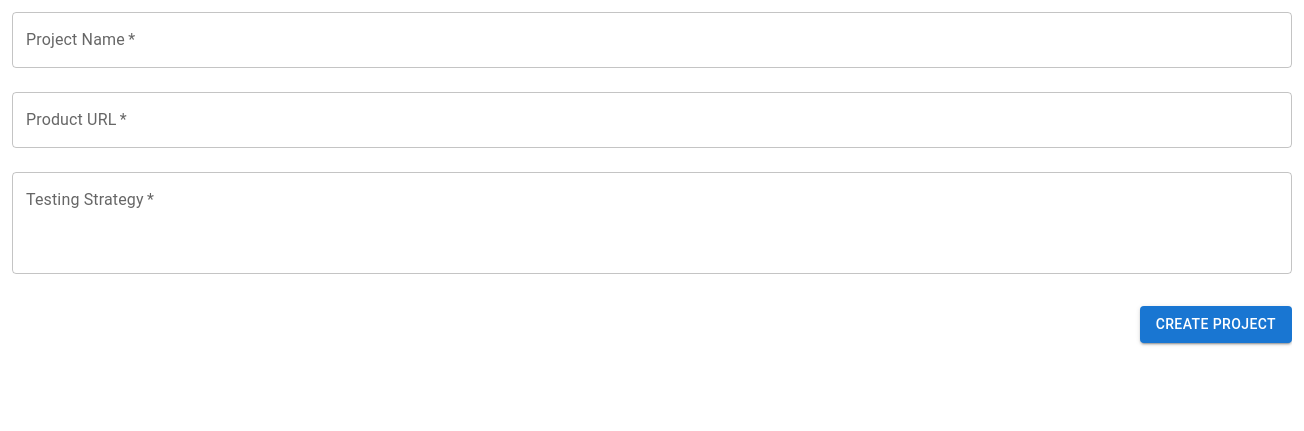
Test: ProjectForm › shows validation error when name is empty on submit
Click the button "Create Project": click(1216, 324) [1140,306,1292,342]
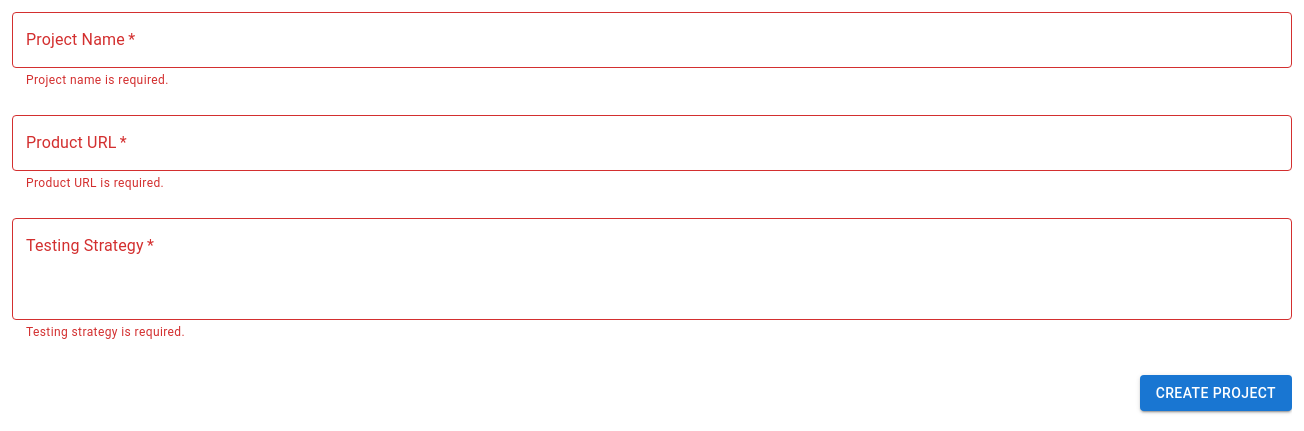
Check: the text "Project name is required." is shown, box [26,73,169,87]
